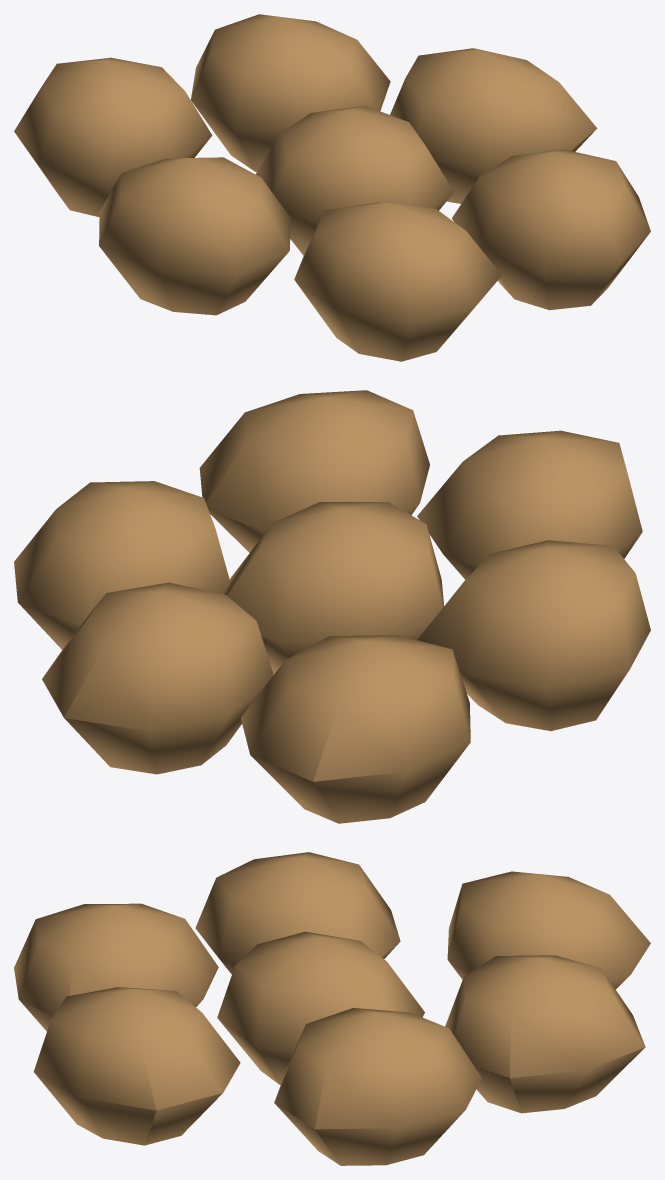
File: food_potato_c.obj
3 views of the same model, one above another, from view 1: azimuth 30°, elevation 25°; view 2: azimuth 150°, elevation 25°; view 3: azimuth 270°, elevation 25° (orthographic). The views are drawn at different scales.
Visible parts, largest first — view 1: potato_6, potato_5, potato_4, potato_1, potato_2, potato_3, potato_7; view 2: potato_1, potato_2, potato_6, potato_7, potato_4, potato_3, potato_5; view 3: potato_3, potato_4, potato_2, potato_5, potato_7, potato_1, potato_6.
Boxes of the visible parts, x1,y1,x2,y2 form: potato_6: [99, 157, 290, 315]; potato_5: [294, 202, 501, 361]; potato_4: [452, 149, 650, 310]; potato_1: [14, 57, 212, 217]; potato_2: [191, 14, 390, 171]; potato_3: [390, 48, 597, 203]; potato_7: [255, 105, 454, 255]; potato_1: [241, 635, 470, 823]; potato_2: [42, 582, 273, 774]; potato_6: [417, 540, 650, 731]; potato_7: [223, 502, 443, 673]; potato_4: [199, 390, 429, 552]; potato_3: [14, 481, 230, 649]; potato_5: [417, 430, 642, 579]; potato_3: [274, 1008, 481, 1165]; potato_4: [33, 987, 240, 1145]; potato_2: [445, 955, 645, 1113]; potato_5: [14, 903, 218, 1031]; potato_7: [217, 931, 424, 1085]; potato_1: [447, 871, 650, 989]; potato_6: [195, 852, 400, 974].
Size of the model in its own units: 0.3493 by 0.09 by 0.3981.
